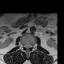CCS_normal: (26, 42, 28, 51)
LFS_normal: (31, 42, 33, 49)
LLS_normal: (28, 42, 31, 49)
RFS_normal: (22, 42, 24, 48)
RLS_normal: (24, 42, 26, 49)
